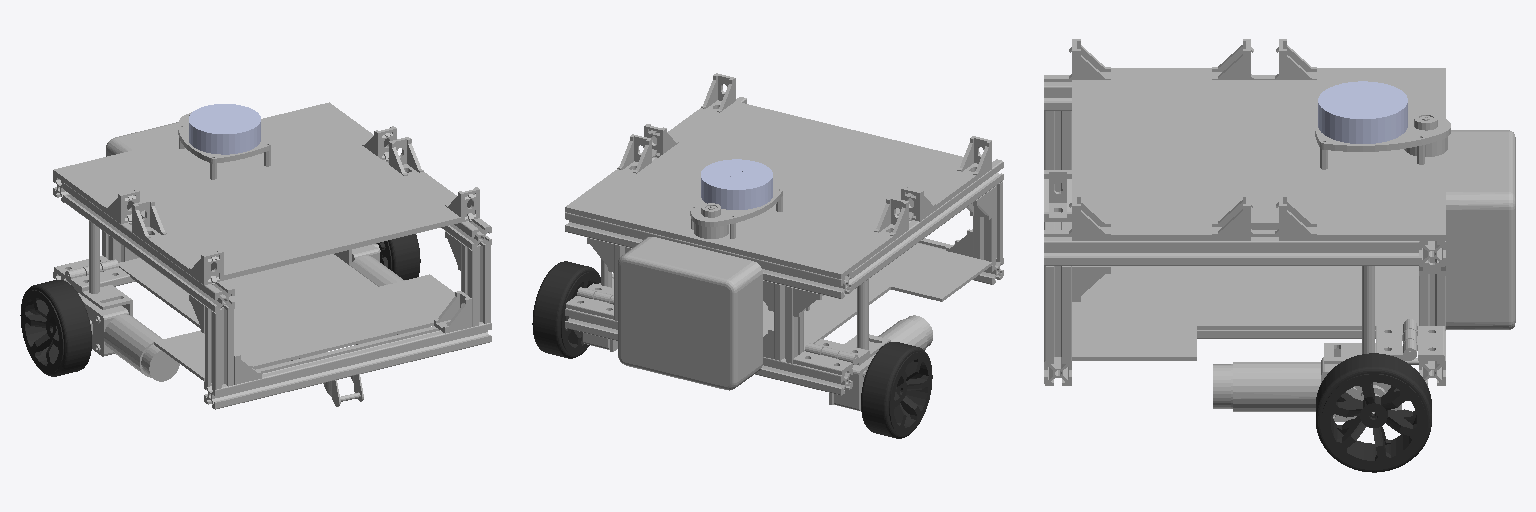
The robot description file, URDF, robot "nav_tf_urdf":
<?xml version="1.0" encoding="utf-8"?>
<!-- This URDF was automatically created by SolidWorks to URDF Exporter! Originally created by [author] ([email redacted]) 
     Commit Version: 1.6.0-4-g7f85cfe  Build Version: 1.6.7995.38578
     For more information, please see http://wiki.ros.org/sw_urdf_exporter -->
<robot
  name="nav_tf_urdf">
  <link
    name="base_link">
    <inertial>
      <origin
        xyz="-1.07955819150764E-12 3.98641248213828E-12 -8.16191932505118E-12"
        rpy="0 0 0" />
      <mass
        value="2.4556334802297" />
      <inertia
        ixx="0.00588389849656267"
        ixy="-5.54498496431469E-09"
        ixz="-1.53333170941911E-09"
        iyy="0.010210248943553"
        iyz="-6.09425077099926E-06"
        izz="0.00582594596712262" />
    </inertial>
    <visual>
      <origin
        xyz="0 0 0"
        rpy="0 0 0" />
      <geometry>
        <mesh
          filename="package://nav_tf_urdf/meshes/base_link.STL" />
      </geometry>
      <material
        name="">
        <color
          rgba="0.752941176470588 0.752941176470588 0.752941176470588 1" />
      </material>
    </visual>
    <collision>
      <origin
        xyz="0 0 0"
        rpy="0 0 0" />
      <geometry>
        <mesh
          filename="package://nav_tf_urdf/meshes/base_link.STL" />
      </geometry>
    </collision>
  </link>
  <link
    name="base_scan">
    <inertial>
      <origin
        xyz="-1.73472347597681E-18 -0.00994901655834558 2.72645823032617E-07"
        rpy="0 0 0" />
      <mass
        value="0.0660277715680958" />
      <inertia
        ixx="1.96156877893574E-05"
        ixy="-1.84238171772927E-21"
        ixz="-2.88695483567953E-24"
        iyy="3.48742138584865E-05"
        iyz="-1.95349716327188E-21"
        izz="1.96156117763069E-05" />
    </inertial>
    <visual>
      <origin
        xyz="0 0 0"
        rpy="0 0 0" />
      <geometry>
        <mesh
          filename="package://nav_tf_urdf/meshes/base_scan.STL" />
      </geometry>
      <material
        name="">
        <color
          rgba="0.792156862745098 0.819607843137255 0.933333333333333 1" />
      </material>
    </visual>
    <collision>
      <origin
        xyz="0 0 0"
        rpy="0 0 0" />
      <geometry>
        <mesh
          filename="package://nav_tf_urdf/meshes/base_scan.STL" />
      </geometry>
    </collision>
  </link>
  <joint
    name="scan_joint"
    type="continuous">
    <origin
      xyz="0 0.0120740335852946 0.0743670768316607"
      rpy="-1.5707963267949 0 -1.5707963267949" />
    <parent
      link="base_link" />
    <child
      link="base_scan" />
    <axis
      xyz="0 1 0" />
    <limit
      lower="0"
      upper="0"
      effort="0"
      velocity="0" />
  </joint>
  <link
    name="left_wheel_link">
    <inertial>
      <origin
        xyz="-0.0150471339237869 -1.947730171592E-12 8.32667268468867E-17"
        rpy="0 0 0" />
      <mass
        value="0.0901982674382036" />
      <inertia
        ixx="0.000104914037889676"
        ixy="7.89015853905989E-16"
        ixz="1.05084195132732E-19"
        iyy="5.86007633745242E-05"
        iyz="9.7832750100169E-16"
        izz="5.86007633597741E-05" />
    </inertial>
    <visual>
      <origin
        xyz="0 0 0"
        rpy="0 0 0" />
      <geometry>
        <mesh
          filename="package://nav_tf_urdf/meshes/left_wheel_link.STL" />
      </geometry>
      <material
        name="">
        <color
          rgba="0.250980392156863 0.250980392156863 0.250980392156863 1" />
      </material>
    </visual>
    <collision>
      <origin
        xyz="0 0 0"
        rpy="0 0 0" />
      <geometry>
        <mesh
          filename="package://nav_tf_urdf/meshes/left_wheel_link.STL" />
      </geometry>
    </collision>
  </link>
  <joint
    name="left_wheel_joint"
    type="continuous">
    <origin
      xyz="-0.154499727354178 0.0198240335852944 -0.0756329231683387"
      rpy="0.037411098547317 0 0" />
    <parent
      link="base_link" />
    <child
      link="left_wheel_link" />
    <axis
      xyz="1 0 0" />
  </joint>
  <link
    name="right_wheel_link">
    <inertial>
      <origin
        xyz="-0.0150471339237868 -1.94670668474117E-12 -2.15105711021124E-16"
        rpy="0 0 0" />
      <mass
        value="0.0901982674382035" />
      <inertia
        ixx="0.000104914037889676"
        ixy="7.88953684741619E-16"
        ixz="2.6904953114311E-19"
        iyy="5.86007633745242E-05"
        iyz="9.78323054078717E-16"
        izz="5.86007633597741E-05" />
    </inertial>
    <visual>
      <origin
        xyz="0 0 0"
        rpy="0 0 0" />
      <geometry>
        <mesh
          filename="package://nav_tf_urdf/meshes/right_wheel_link.STL" />
      </geometry>
      <material
        name="">
        <color
          rgba="0.250980392156863 0.250980392156863 0.250980392156863 1" />
      </material>
    </visual>
    <collision>
      <origin
        xyz="0 0 0"
        rpy="0 0 0" />
      <geometry>
        <mesh
          filename="package://nav_tf_urdf/meshes/right_wheel_link.STL" />
      </geometry>
    </collision>
  </link>
  <joint
    name="right_wheel_joint"
    type="continuous">
    <origin
      xyz="0.154500272645823 0.0198240335852952 -0.075632923168337"
      rpy="-1.77866827099237 0 3.14159265358979" />
    <parent
      link="base_link" />
    <child
      link="right_wheel_link" />
    <axis
      xyz="1 0 0" />
  </joint>
  <link
    name="caster_link">
    <inertial>
      <origin
        xyz="0.00660393903079727 0 -4.16333634234434E-17"
        rpy="0 0 0" />
      <mass
        value="0.01152385226836" />
      <inertia
        ixx="2.43995864492354E-06"
        ixy="-1.60142166590266E-21"
        ixz="1.6448486480617E-21"
        iyy="1.40033256895839E-06"
        iyz="-9.72764400362361E-22"
        izz="1.40033256895838E-06" />
    </inertial>
    <visual>
      <origin
        xyz="0 0 0"
        rpy="0 0 0" />
      <geometry>
        <mesh
          filename="package://nav_tf_urdf/meshes/caster_link.STL" />
      </geometry>
      <material
        name="">
        <color
          rgba="1 1 1 1" />
      </material>
    </visual>
    <collision>
      <origin
        xyz="0 0 0"
        rpy="0 0 0" />
      <geometry>
        <mesh
          filename="package://nav_tf_urdf/meshes/caster_link.STL" />
      </geometry>
    </collision>
  </link>
  <joint
    name="caster_joint"
    type="continuous">
    <origin
      xyz="-0.00718168989947332 -0.20968995832357 -0.0906329231683387"
      rpy="-3.06614609532378 0 -0.0342357063287251" />
    <parent
      link="base_link" />
    <child
      link="caster_link" />
    <axis
      xyz="1 0 0" />
  </joint>
</robot>

--- What the picture shows (computed from the rendered views, not written in the file) ---
The picture shows the robot from 3 angles, left to right: view 1: azimuth 30°, elevation 25°; view 2: azimuth 150°, elevation 25°; view 3: azimuth 270°, elevation 25°; orthographic projection.
Robot: nav_tf_urdf — 5 links, 4 joints (4 continuous); root link base_link; default pose: all joints at 0.
Visible links, largest first — view 1: base_link, left_wheel_link, base_scan, right_wheel_link; view 2: base_link, left_wheel_link, right_wheel_link, base_scan; view 3: base_link, right_wheel_link, base_scan.
Boxes of the visible links, x1,y1,x2,y2 form: base_link: [53, 102, 491, 409]; left_wheel_link: [20, 280, 91, 376]; base_scan: [189, 104, 260, 154]; right_wheel_link: [377, 234, 420, 279]; base_link: [565, 73, 1003, 410]; left_wheel_link: [861, 342, 932, 438]; right_wheel_link: [532, 261, 600, 358]; base_scan: [701, 159, 772, 209]; base_link: [1044, 39, 1515, 421]; right_wheel_link: [1316, 353, 1431, 472]; base_scan: [1318, 81, 1407, 143].
Bounding box of the posed robot: 0.369 × 0.34 × 0.212 m (x, y, z).
Meshes: 5 distinct files referenced, 4 mesh visuals loaded (4 binary STL); not drawn: 1 (reference not matched to a file when rendering).